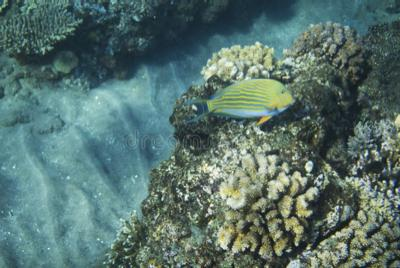Acanthuridae -Surgeonfishes-: (172, 74, 300, 135)
